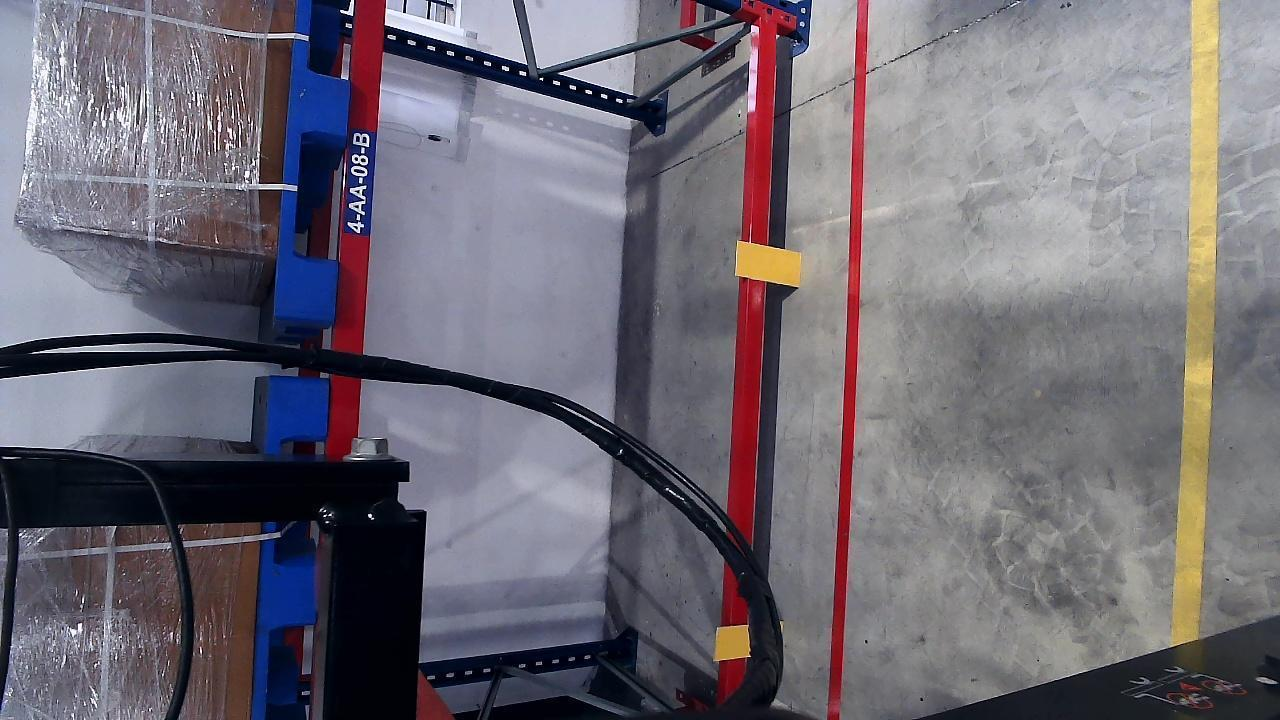red_line: (252, 382, 329, 720), (832, 10, 869, 710)
yellow_line: (1171, 6, 1219, 647)
